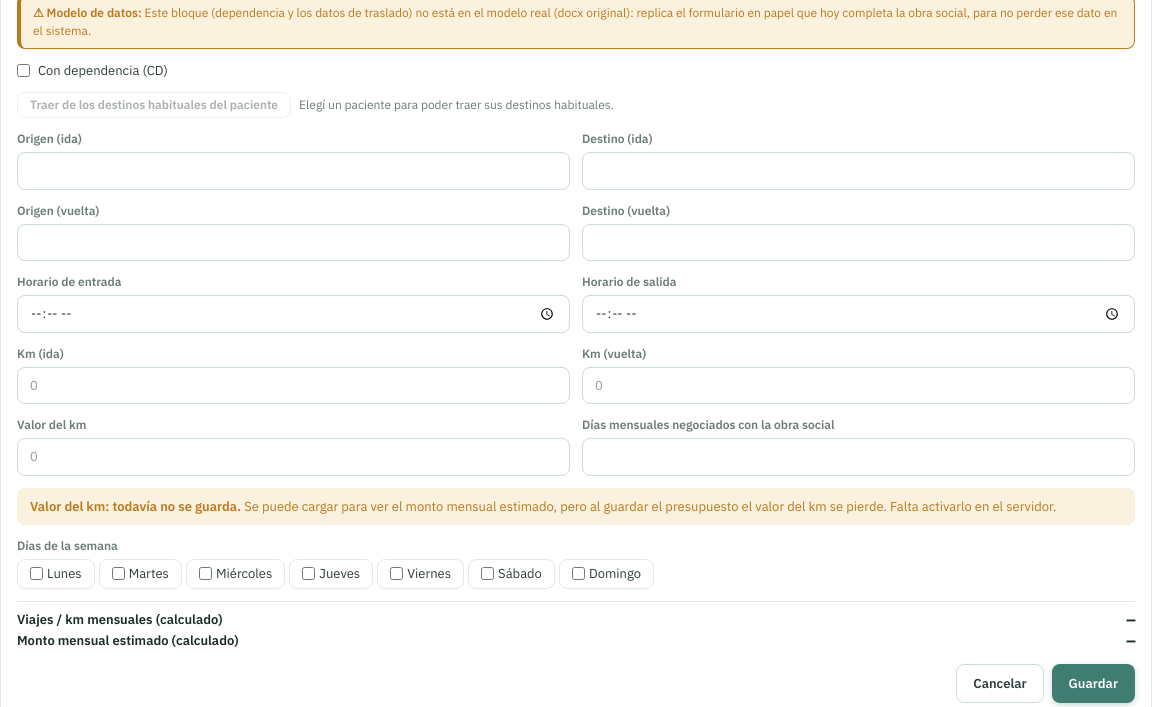
Test case: PresupuestoForm › bloquea el guardado y señala paciente/obra social/monto faltantes cuando se envía vacío
This screenshot has width=1152, height=707.
(page scrolled)
Click the button "Guardar" at (1093, 683), box [1052,664,1135,703]
(page scrolled)
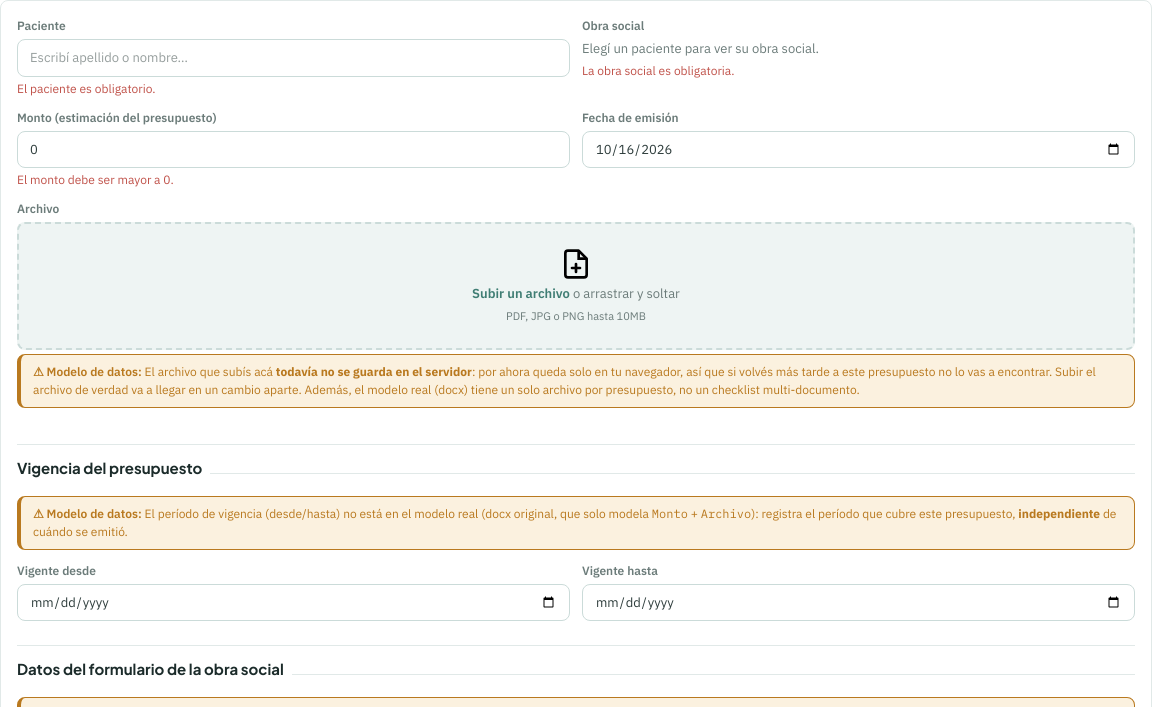
Check: the text "El paciente es obligatorio." is shown, box [17,80,155,96]
Check: the text "La obra social es obligatoria." is shown, box [582,62,735,78]
Check: the text "El monto debe ser mayor a 0." is shown, box [17,172,174,187]
